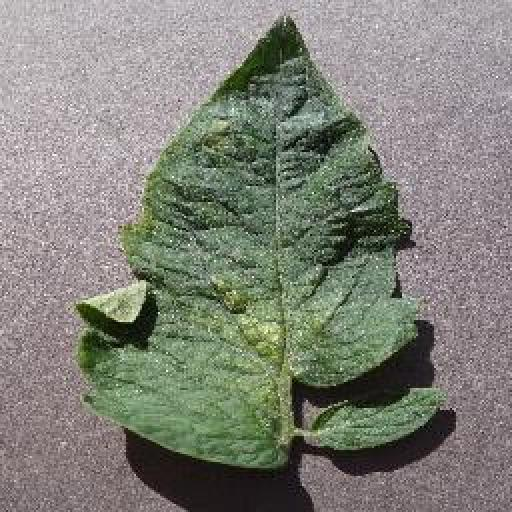Spider Mites: (78, 14, 418, 466)
